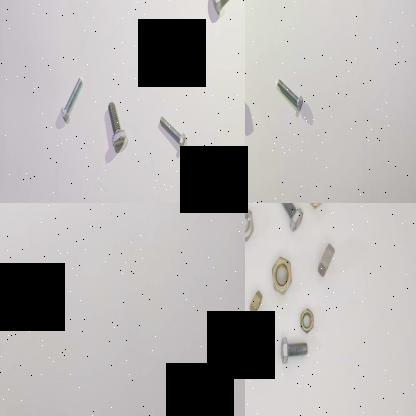Bolts: (272, 75, 304, 124), (58, 74, 86, 128), (158, 114, 188, 156), (105, 99, 127, 151), (277, 203, 305, 240), (278, 334, 312, 364), (203, 0, 243, 21)
NUTS: (271, 255, 294, 297), (318, 240, 338, 281), (299, 306, 315, 336), (248, 344, 264, 372), (245, 205, 255, 246), (250, 288, 264, 317), (308, 203, 324, 210)
